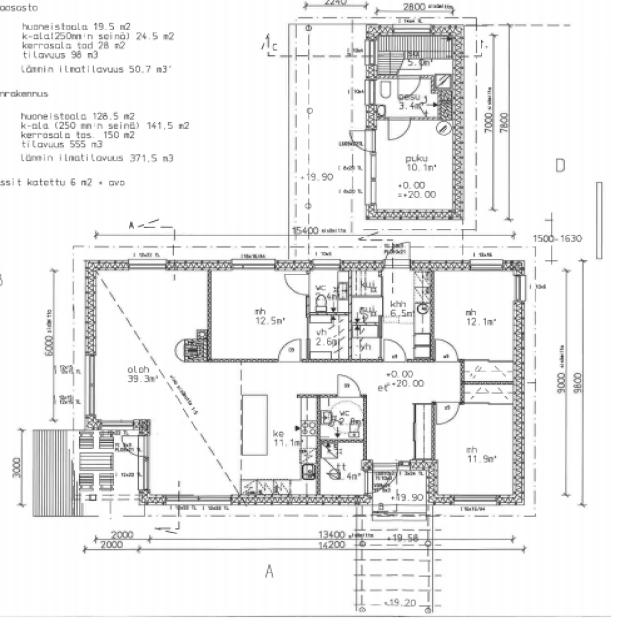door: (370, 462, 400, 493), (282, 270, 312, 298), (275, 336, 305, 363), (334, 373, 364, 399), (384, 242, 411, 270), (433, 400, 462, 426), (432, 337, 462, 362), (380, 336, 408, 362), (122, 434, 150, 459), (386, 116, 412, 142), (396, 74, 422, 99), (350, 128, 376, 152)
window: (82, 352, 101, 420), (374, 504, 430, 522), (449, 493, 500, 511), (178, 491, 235, 506), (366, 153, 380, 207), (231, 260, 277, 274), (126, 259, 168, 273), (510, 273, 528, 305), (137, 456, 153, 492), (467, 259, 506, 273), (313, 258, 340, 270)
zone: (94, 267, 210, 430), (8, 0, 193, 84), (211, 363, 318, 499), (208, 268, 308, 362), (432, 399, 520, 503), (429, 269, 519, 361), (372, 118, 458, 214), (75, 429, 144, 516), (380, 265, 430, 359), (368, 76, 452, 120), (318, 439, 368, 501), (307, 314, 350, 361), (318, 398, 366, 440), (309, 268, 349, 316), (461, 359, 516, 384), (461, 382, 516, 405), (350, 322, 382, 361), (350, 265, 383, 297), (351, 297, 381, 325)
